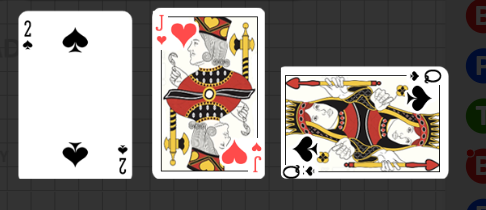2S: (21, 18, 34, 52)
9S: (406, 67, 443, 84)
JH: (249, 140, 262, 173)
